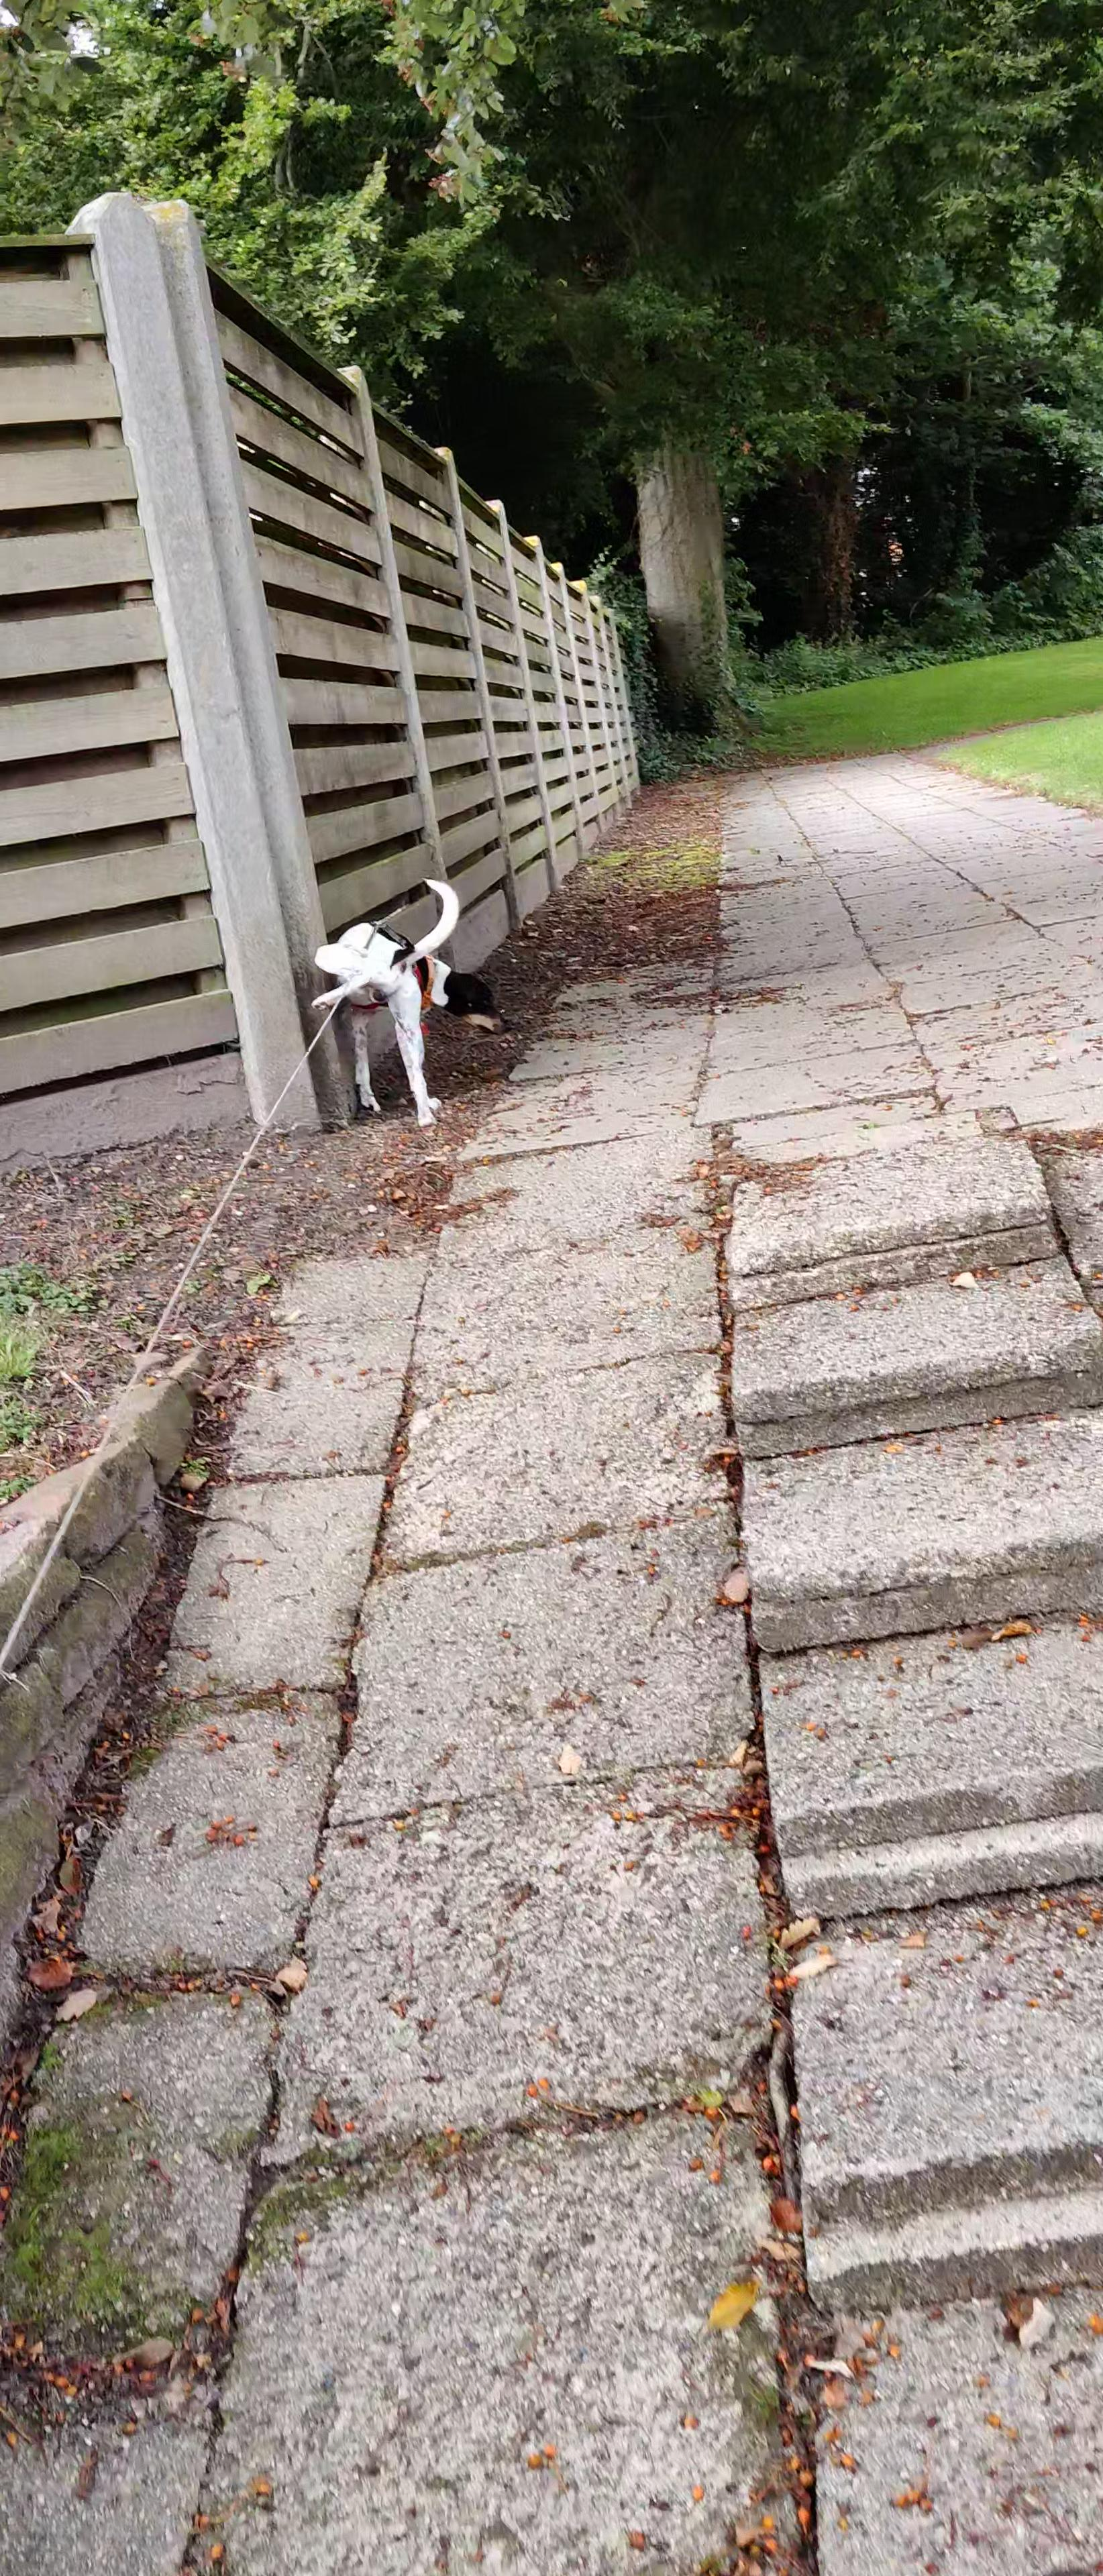Dog: (293, 871, 513, 1145)
